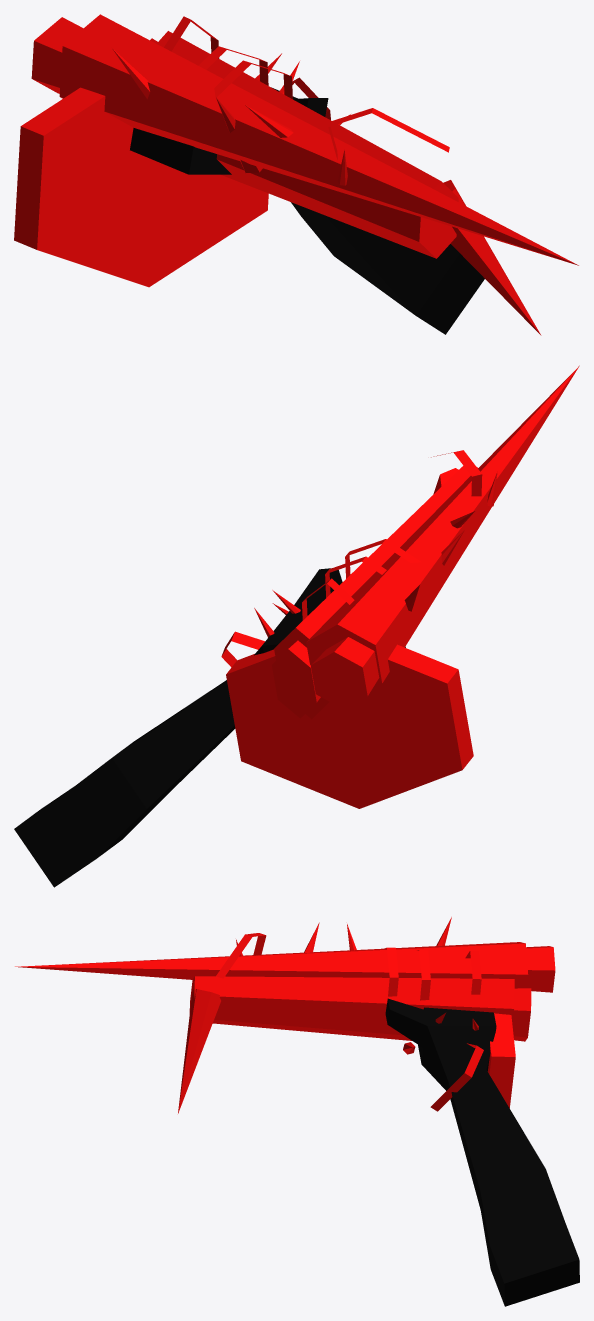
File: Gun.obj
3 views of the same model, one above another, from view 1: azimuth 30°, elevation 25°; view 2: azimuth 150°, elevation 25°; view 3: azimuth 270°, elevation 25° (orthographic). The views are drawn at different scales.
Visible parts, largest first — view 1: Cone.011_Cone.002; view 2: Cone.011_Cone.002; view 3: Cone.011_Cone.002.
Part boxes in pixels (box(x1,y1,x2,y2)): Cone.011_Cone.002: box(14, 14, 578, 335); Cone.011_Cone.002: box(14, 365, 579, 887); Cone.011_Cone.002: box(15, 917, 579, 1306).
Bounding box in the file's own units: 0.5776 × 0.4784 × 0.8607.
